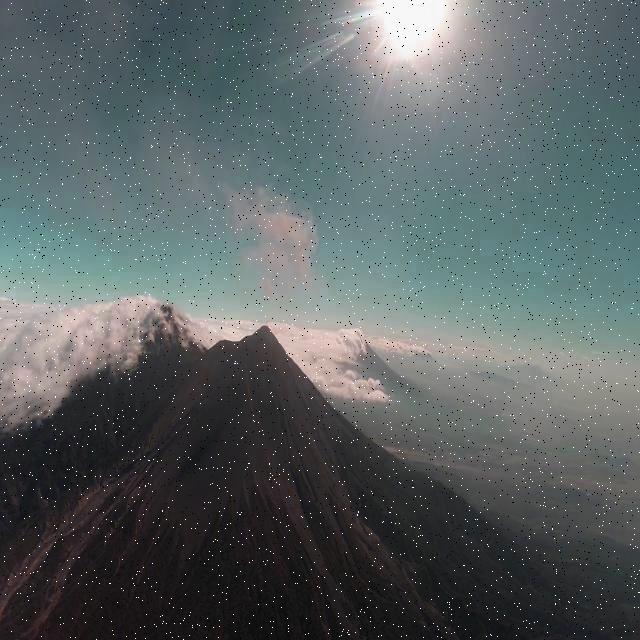Summit: (238, 322, 282, 350)
